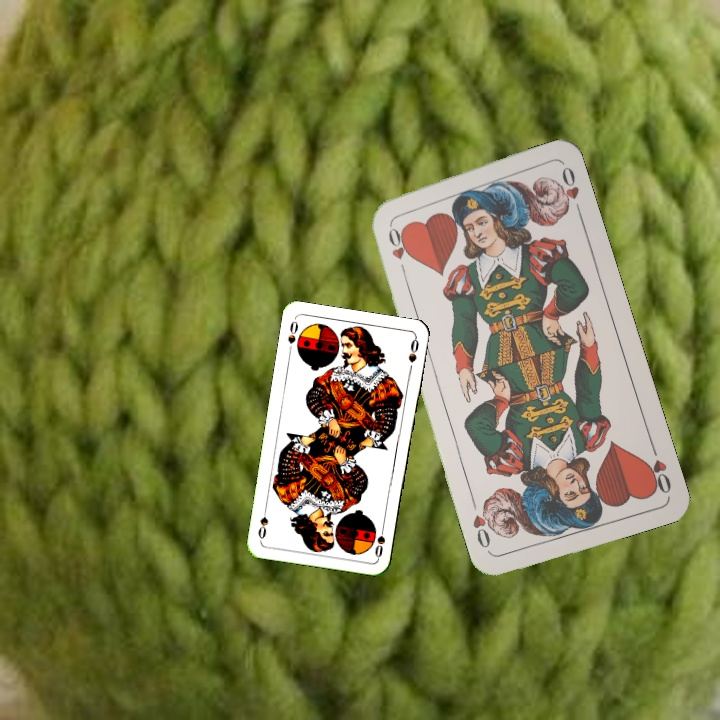HO: (642, 439, 674, 496), (384, 217, 409, 275)
SO: (283, 315, 301, 356), (371, 520, 388, 560)
